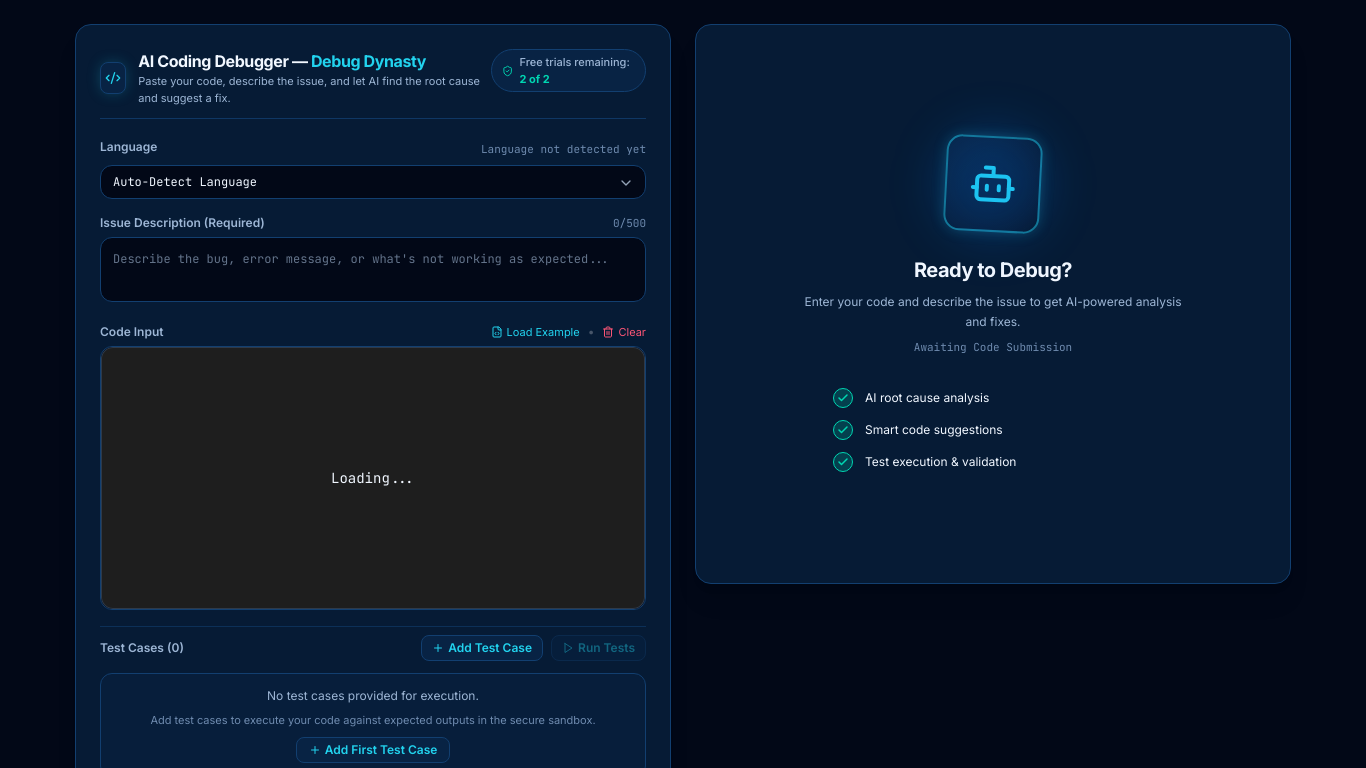
DebuggerPage Workspace Component › displays loading state and handles successful debug submission
Step 1. Click the button "Load Example" → x=535, y=332, box [490,324,580,340]
(page scrolled)
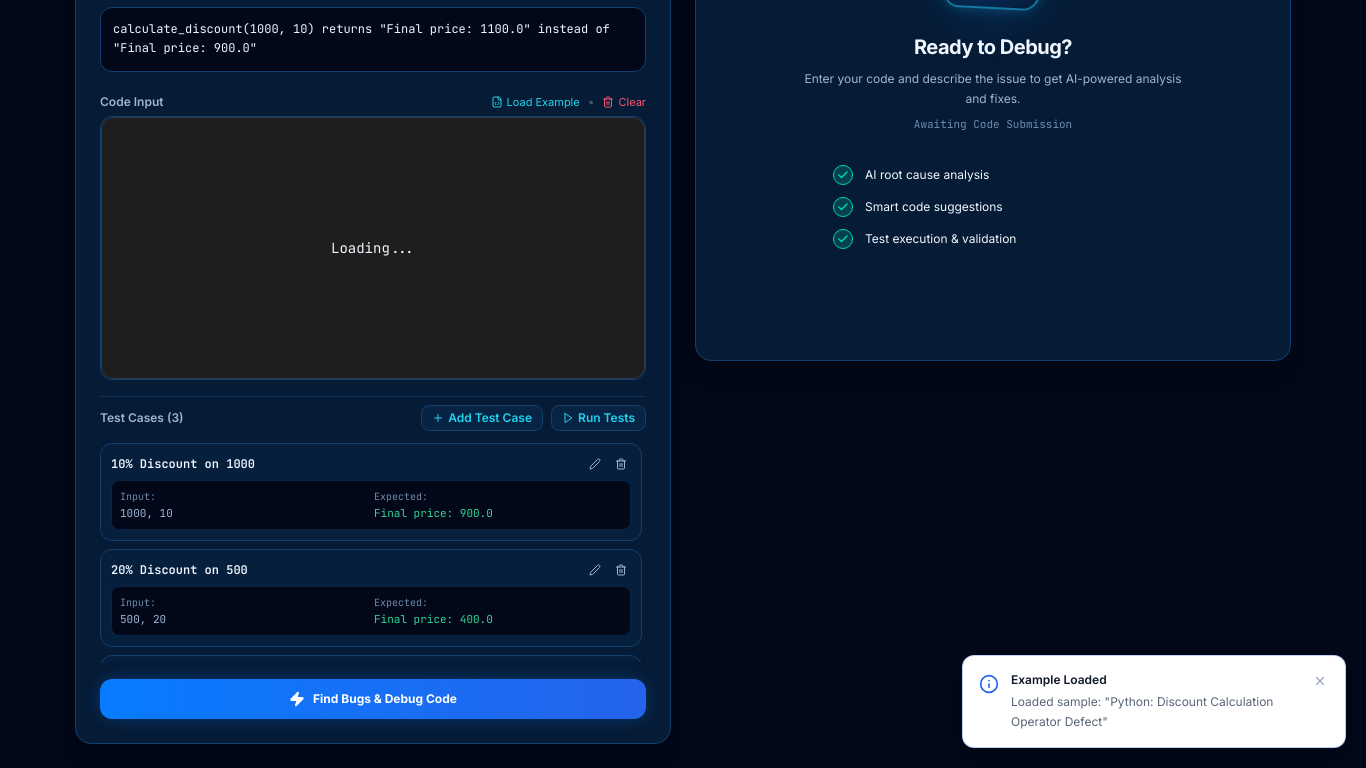
Check: the button named "Debug My Code" is enabled
Step 2. Click the button named "Debug My Code" → x=373, y=698, box [100,678,646,718]
(page scrolled)
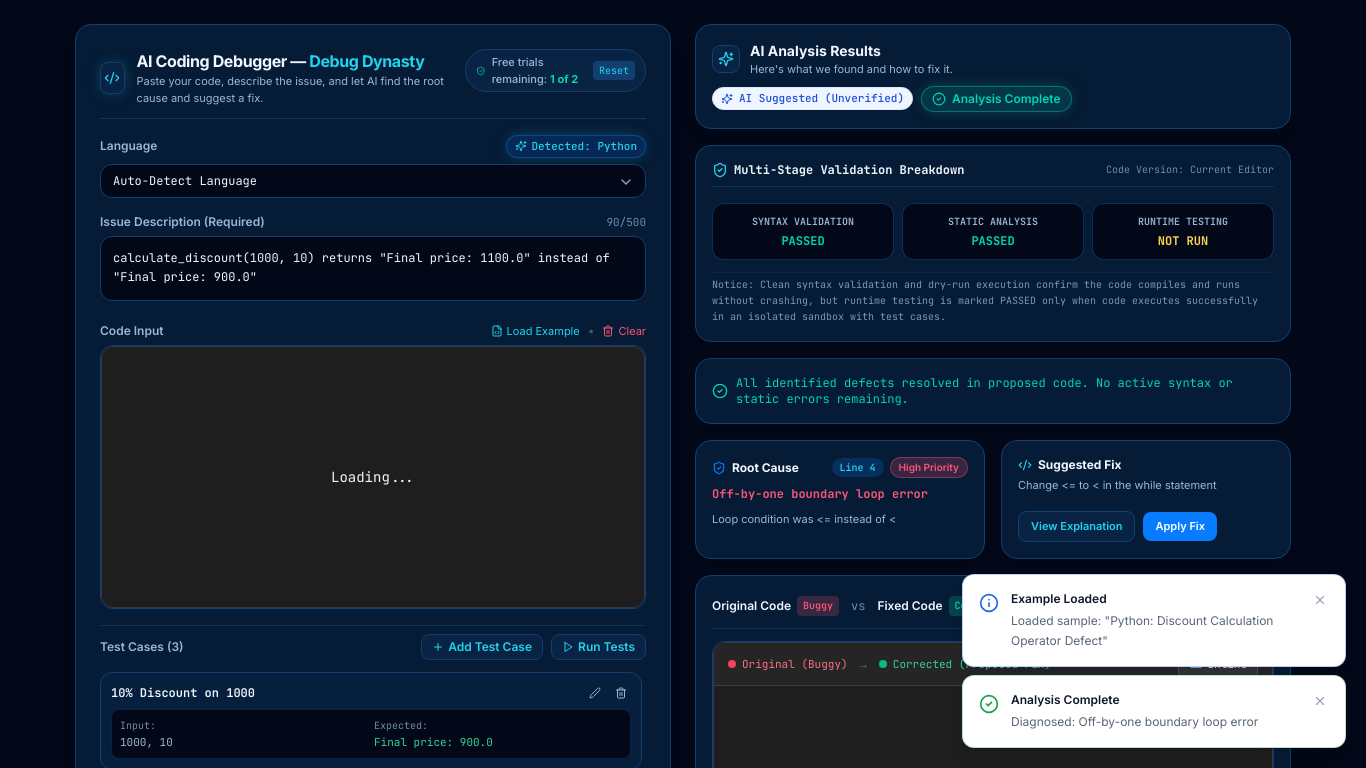
Check: the heading "Off-by-one boundary loop error" is shown, box [712,486,928,502]
Check: the text "Loop condition was <= instead of <" is shown, box [712,512,896,526]
Check: the text "Line 4" is shown, box [832,458,884,477]
